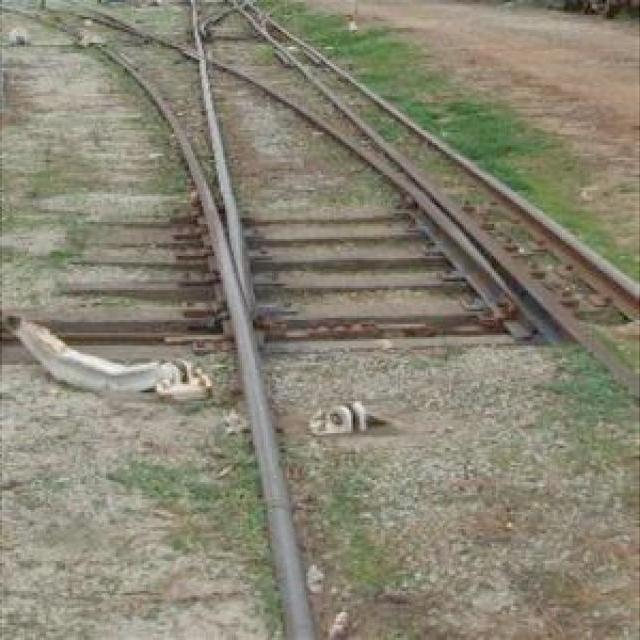rail: (4, 1, 640, 640)
